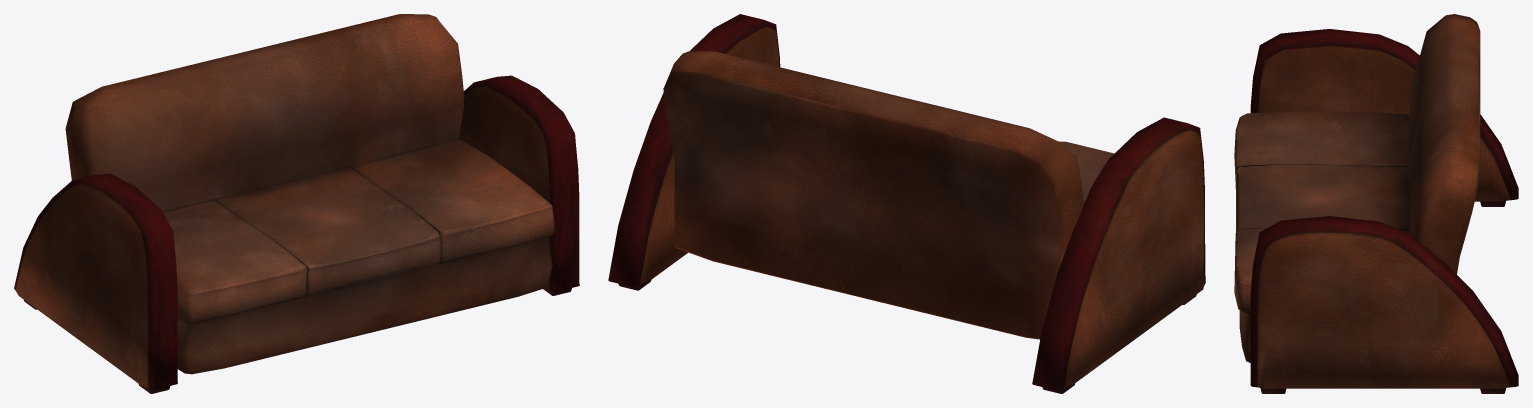
The model's file is LeatherCouch.obj.
3 renders of one model, left to right at view 1: azimuth 30°, elevation 25°; view 2: azimuth 150°, elevation 25°; view 3: azimuth 270°, elevation 25°, orthographic. The views are drawn at different scales.
Visible parts, largest first — view 1: LeatherCouch; view 2: LeatherCouch; view 3: LeatherCouch.
Part boxes in pixels (<box>): LeatherCouch: <box>14,14,579,393</box>; LeatherCouch: <box>608,14,1205,393</box>; LeatherCouch: <box>1234,14,1518,393</box>.
Size of the model in its own units: 272 by 128 by 161.
1 material, 1 textured.
